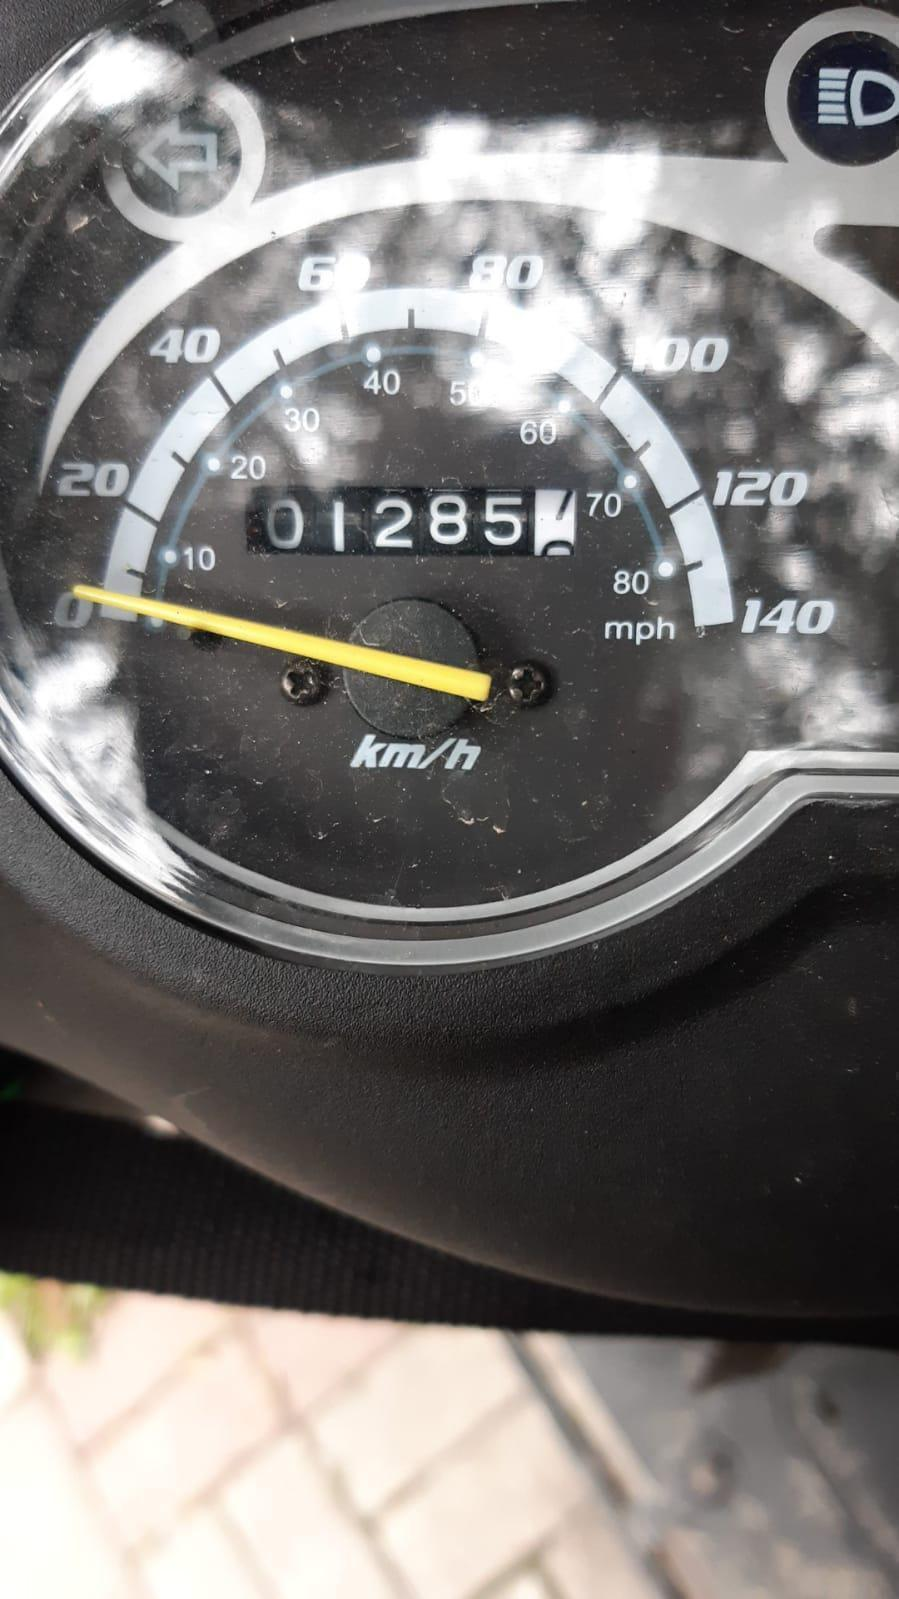0: (265, 494, 305, 555)
1: (326, 497, 356, 564)
2: (371, 494, 417, 557)
5: (482, 490, 527, 551)
7: (542, 482, 578, 532)
8: (428, 488, 472, 546)
odometer: (238, 479, 585, 571)
